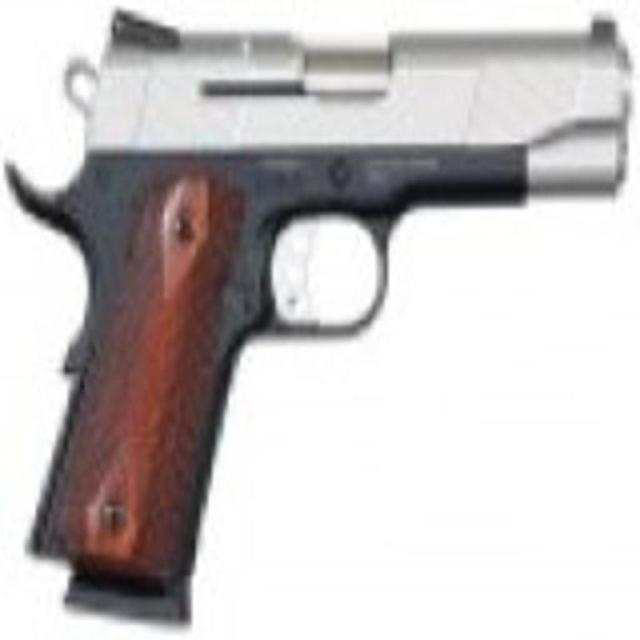pistol: (20, 10, 631, 596)
